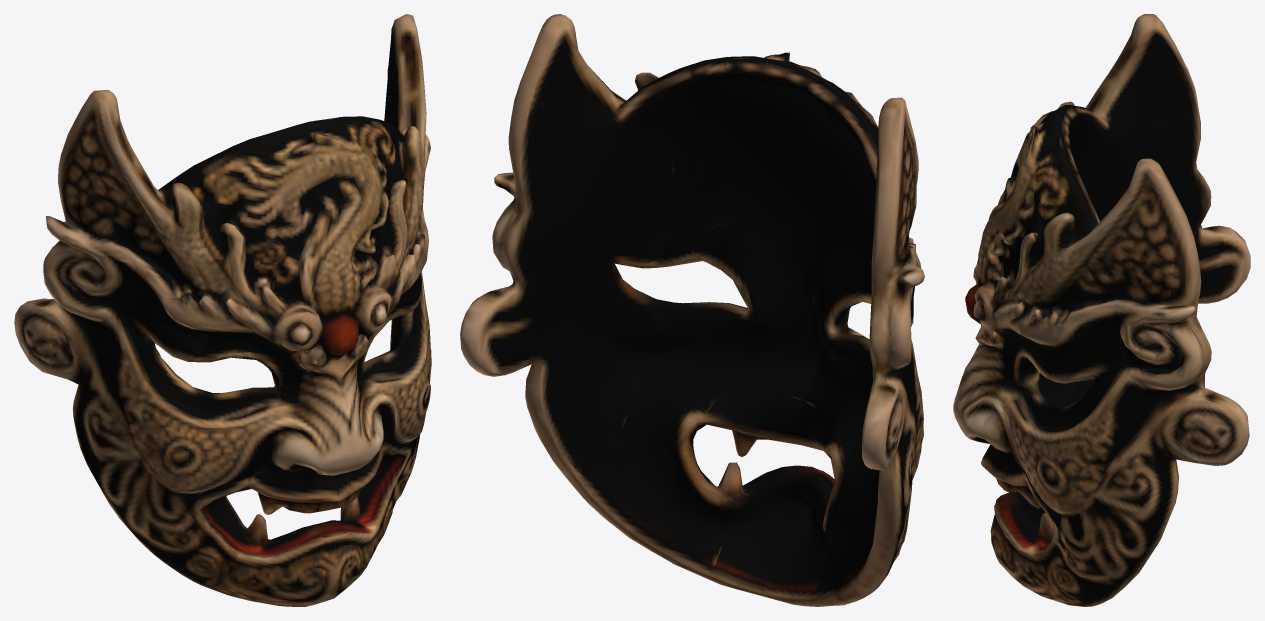
Rendered from 3d_demo_30.glb.
The picture shows the model from 3 angles, left to right: view 1: azimuth 30°, elevation 25°; view 2: azimuth 150°, elevation 25°; view 3: azimuth 270°, elevation 25°; orthographic projection. The views are drawn at different scales.
Parts seen in each view (by area): view 1: texture_v128_online.001; view 2: texture_v128_online.001; view 3: texture_v128_online.001.
Part boxes in pixels (left/top/right/bottom): texture_v128_online.001: left=14, top=14, right=431, bottom=606; texture_v128_online.001: left=460, top=14, right=924, bottom=606; texture_v128_online.001: left=953, top=14, right=1250, bottom=606.
Bounding box in the file's own units: 1.54 × 2 × 1.07.
Materials: 1 (1 with a texture image).
